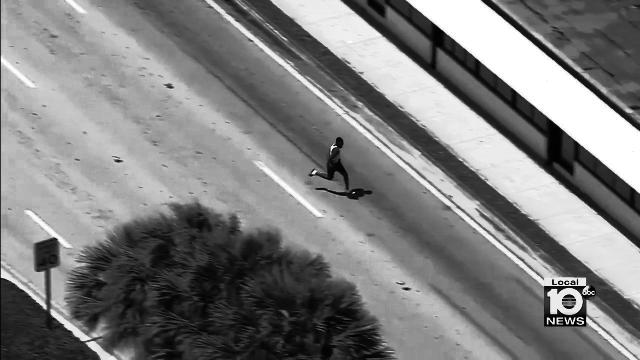berlari: (311, 135, 359, 203)
